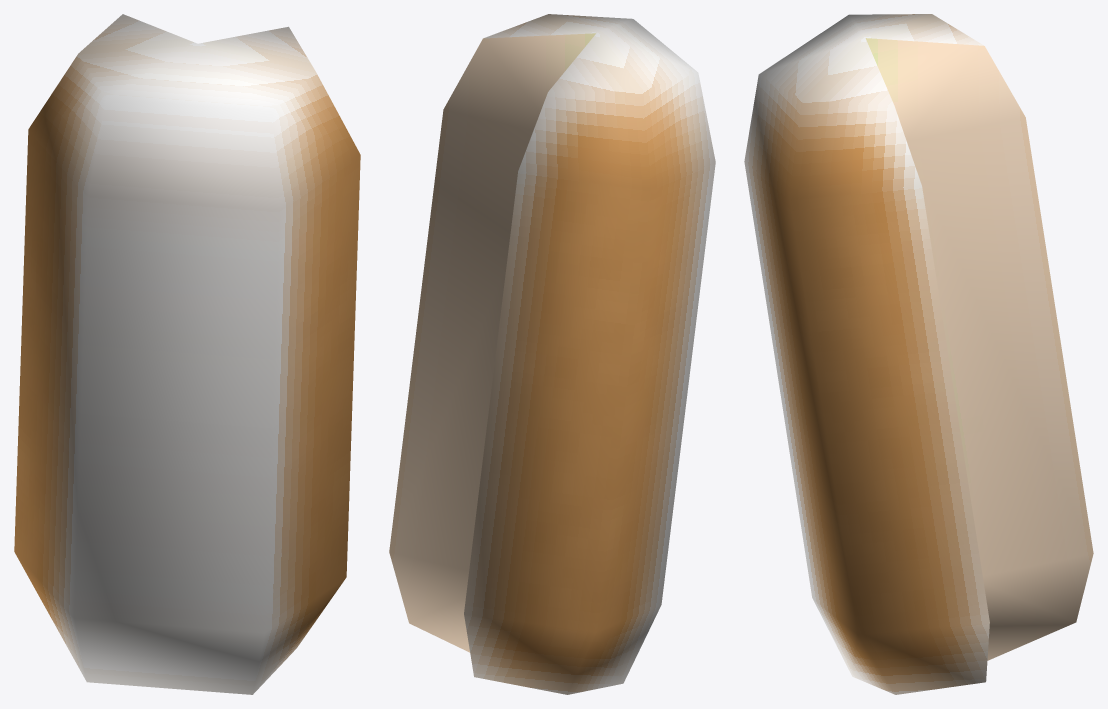
File: H_HotdogBun.fbx
The picture shows the model from 3 angles, left to right: view 1: azimuth 30°, elevation 25°; view 2: azimuth 150°, elevation 25°; view 3: azimuth 270°, elevation 25°; orthographic projection. The views are drawn at different scales.
Parts seen in each view (by area): view 1: HotDog; view 2: HotDog; view 3: HotDog.
Part boxes in pixels (bbox=[...]): HotDog: bbox=[14, 14, 360, 694]; HotDog: bbox=[389, 14, 715, 694]; HotDog: bbox=[744, 14, 1093, 694].
Size of the model in its own units: 14.99 by 34.33 by 17.57.
